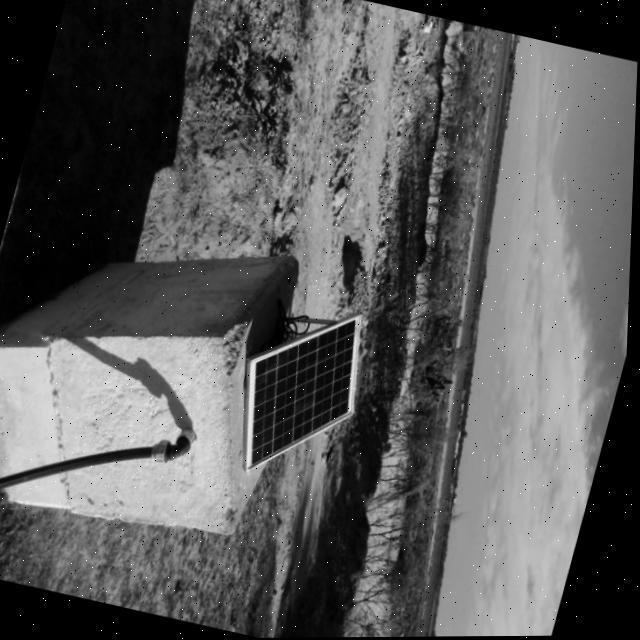Normal Solar Panel: (225, 292, 382, 490)
